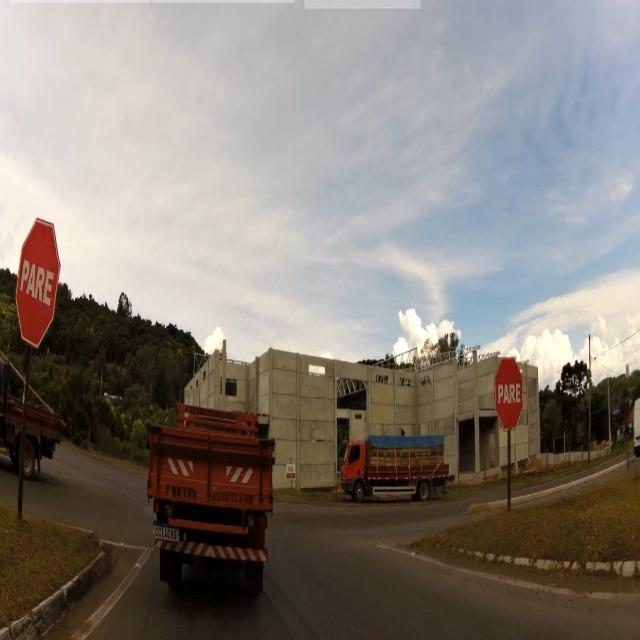R-1: (16, 223, 60, 349), (492, 349, 526, 436)
